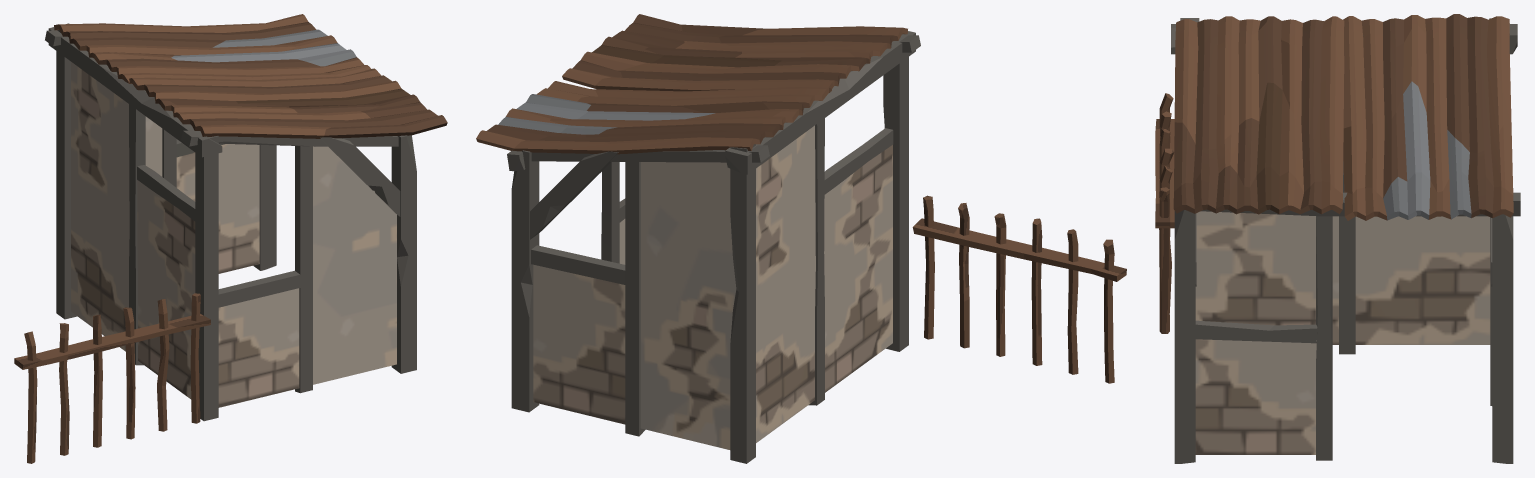
The model's file is Env_7.fbx.
3 views of the same model, side by side, from view 1: azimuth 30°, elevation 25°; view 2: azimuth 150°, elevation 25°; view 3: azimuth 270°, elevation 25° (orthographic). The views are drawn at different scales.
Visible parts, largest first — view 1: SM_Bld_Shack_02, SM_Bld_Railing_01; view 2: SM_Bld_Shack_02, SM_Bld_Railing_01; view 3: SM_Bld_Shack_02, SM_Bld_Railing_01.
Part boxes in pixels (left/top/right/bottom): SM_Bld_Shack_02: left=45, top=14, right=447, bottom=421; SM_Bld_Railing_01: left=14, top=293, right=210, bottom=463; SM_Bld_Shack_02: left=476, top=14, right=920, bottom=463; SM_Bld_Railing_01: left=912, top=195, right=1126, bottom=383; SM_Bld_Shack_02: left=1171, top=14, right=1520, bottom=463; SM_Bld_Railing_01: left=1155, top=93, right=1174, bottom=333.
Size of the model in its own units: 445 by 285 by 286.
